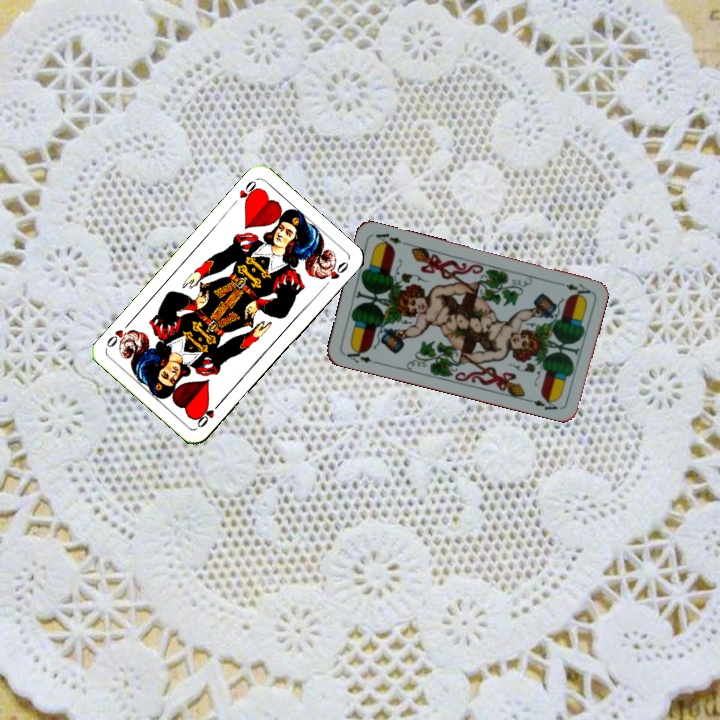EA: (340, 343, 380, 367), (562, 279, 593, 297)
HO: (228, 176, 262, 209), (193, 397, 224, 430)
